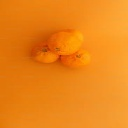orange: (46, 32, 81, 56)
